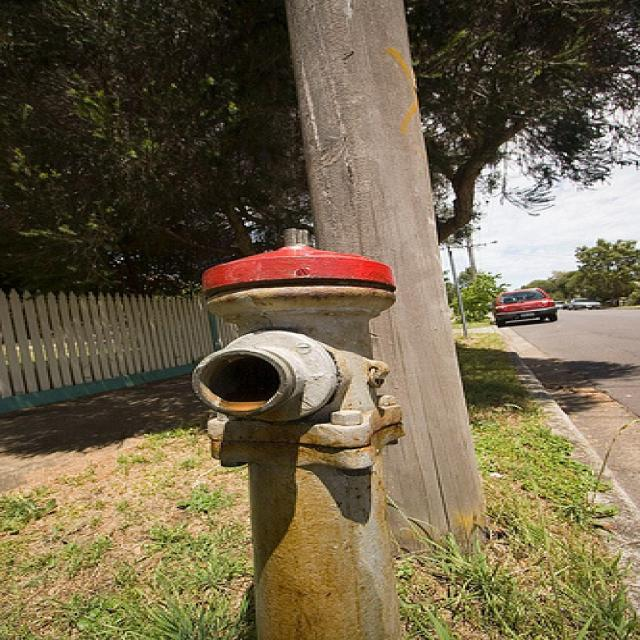fire_hydrant: (177, 222, 390, 628)
